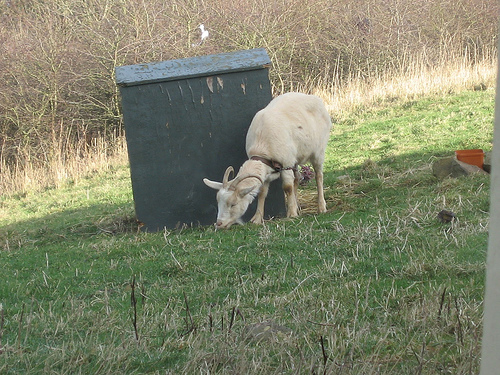goat: (202, 91, 332, 228)
